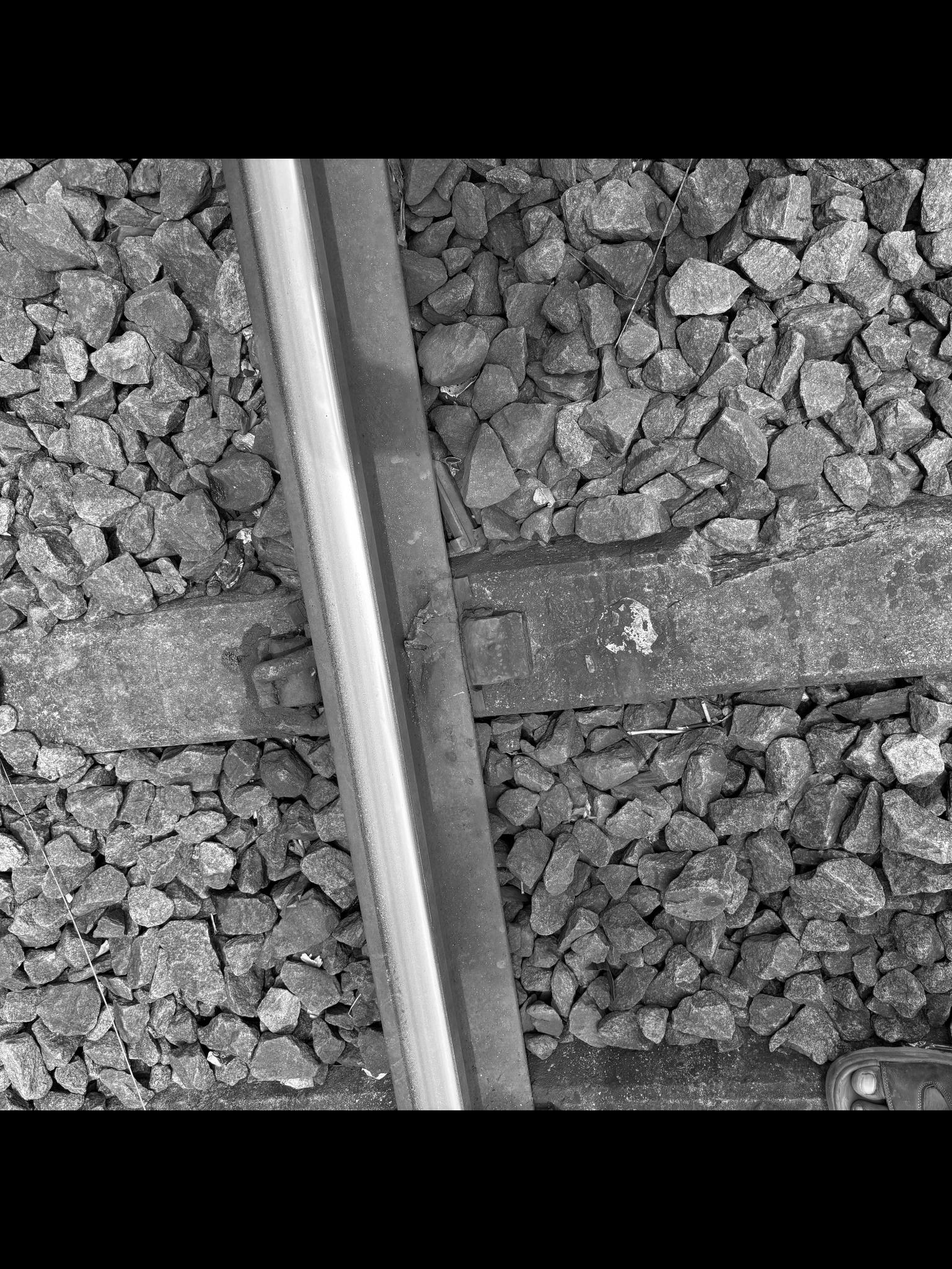cracks under rail seat: (624, 456, 930, 625), (188, 601, 304, 637)
